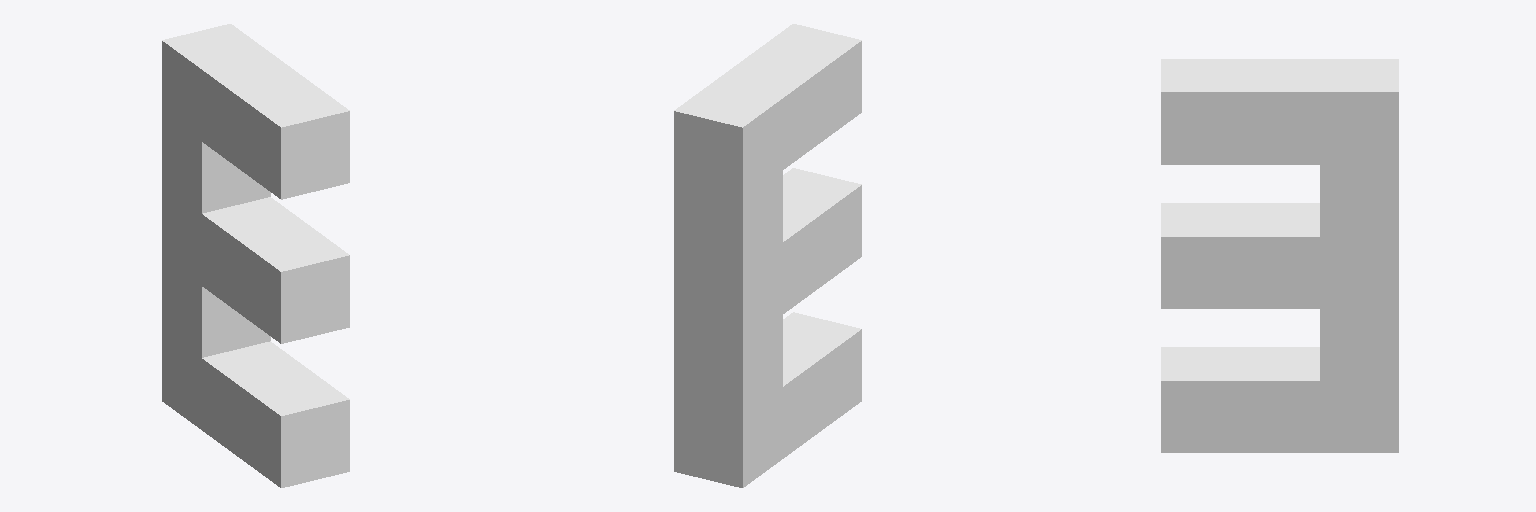
File: nowruz-display-7.obj
The picture shows the model from 3 angles: view 1: azimuth 30°, elevation 25°; view 2: azimuth 150°, elevation 25°; view 3: azimuth 270°, elevation 25°; orthographic projection.
Visible parts, largest first — view 1: object 1; view 2: object 1; view 3: object 1.
Part boxes in pixels (left/top/right/bottom): object 1: left=162, top=24, right=349, bottom=487; object 1: left=674, top=24, right=861, bottom=487; object 1: left=1161, top=59, right=1398, bottom=452.
Bounding box in the file's own units: 0.1 × 0.5 × 0.3.